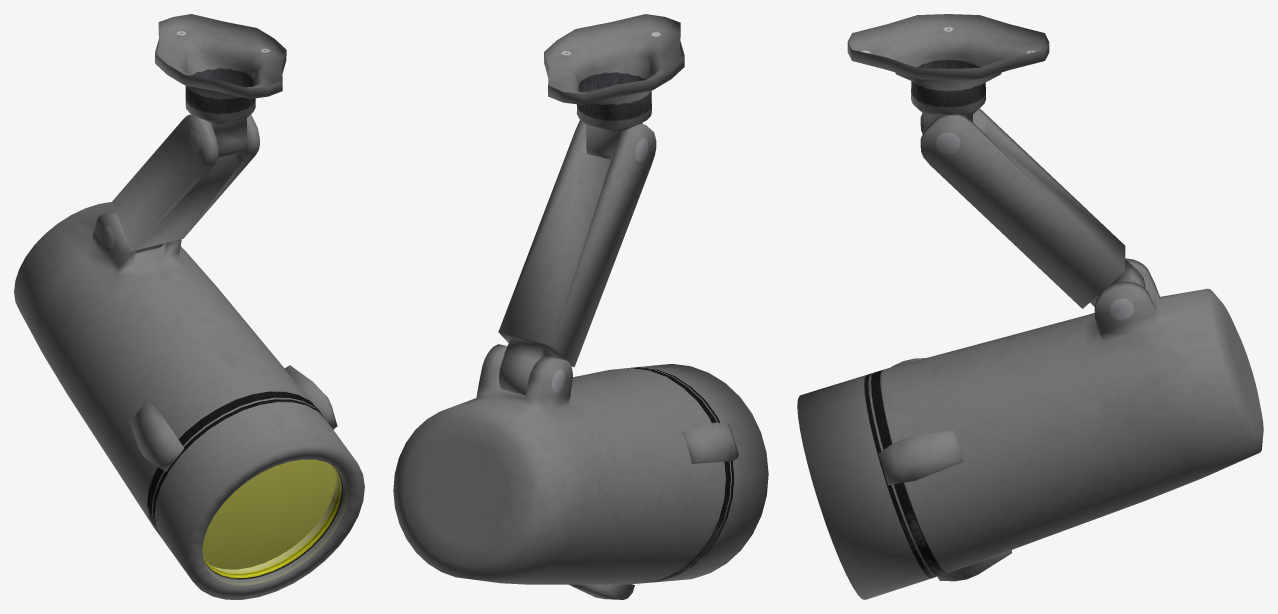
The model's file is spotlight.obj.
3 renders of one model, left to right at view 1: azimuth 30°, elevation 25°; view 2: azimuth 150°, elevation 25°; view 3: azimuth 270°, elevation 25°, orthographic. The views are drawn at different scales.
Parts seen in each view (by area): view 1: defaultMaterial; view 2: defaultMaterial; view 3: defaultMaterial.
Part boxes in pixels (x1,y1,x2,y2): defaultMaterial: [14, 14, 364, 599]; defaultMaterial: [393, 14, 768, 599]; defaultMaterial: [797, 14, 1263, 599].
Size of the model in its own units: 0.413 by 1.09 by 0.84.
Materials: 1 (1 with a texture image).
